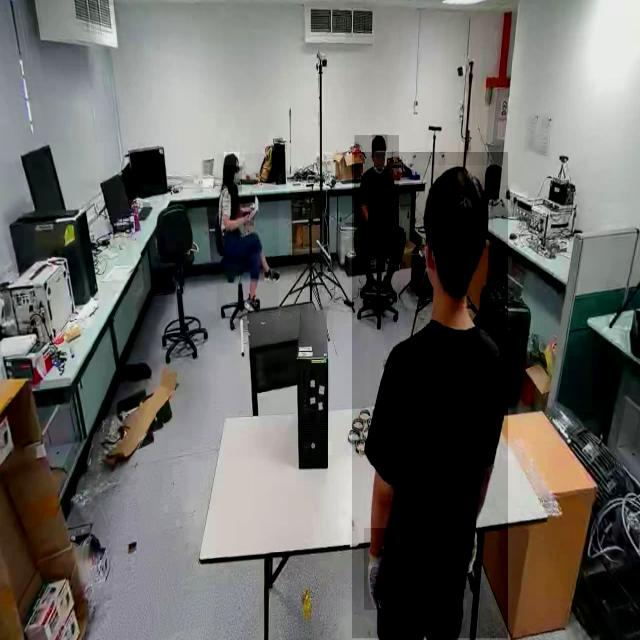face_mask: (228, 166, 242, 193)
face_nomask: (373, 151, 387, 170)
hand_glove: (364, 528, 389, 611)
hand_noglove: (243, 212, 254, 226)
head_nohelmet: (425, 165, 490, 234), (372, 134, 388, 150), (223, 152, 239, 166)
person: (352, 152, 508, 639), (216, 154, 278, 314), (354, 135, 399, 271)
shoes: (357, 270, 378, 299), (261, 260, 281, 286), (379, 272, 398, 299), (240, 292, 260, 315)
